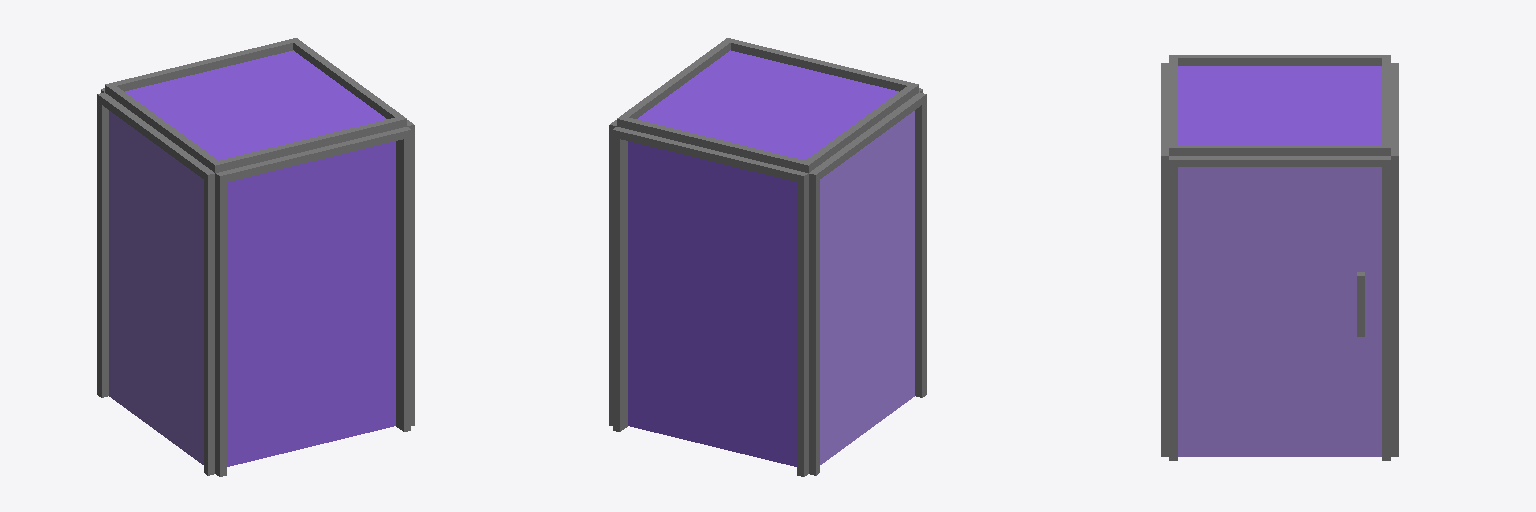
3 views of the same model, side by side, from view 1: azimuth 30°, elevation 25°; view 2: azimuth 150°, elevation 25°; view 3: azimuth 270°, elevation 25° (orthographic).
Visible parts, largest first — view 1: object 1; view 2: object 1; view 3: object 1.
Boxes of the visible parts, x1=… form: object 1: x1=97, y1=38, x2=414, y2=476; object 1: x1=609, y1=38, x2=926, y2=476; object 1: x1=1161, y1=55, x2=1398, y2=460.
Bounding box in the file's own units: 2.8 × 4 × 2.8.
Materials: 1 (1 with a texture image).